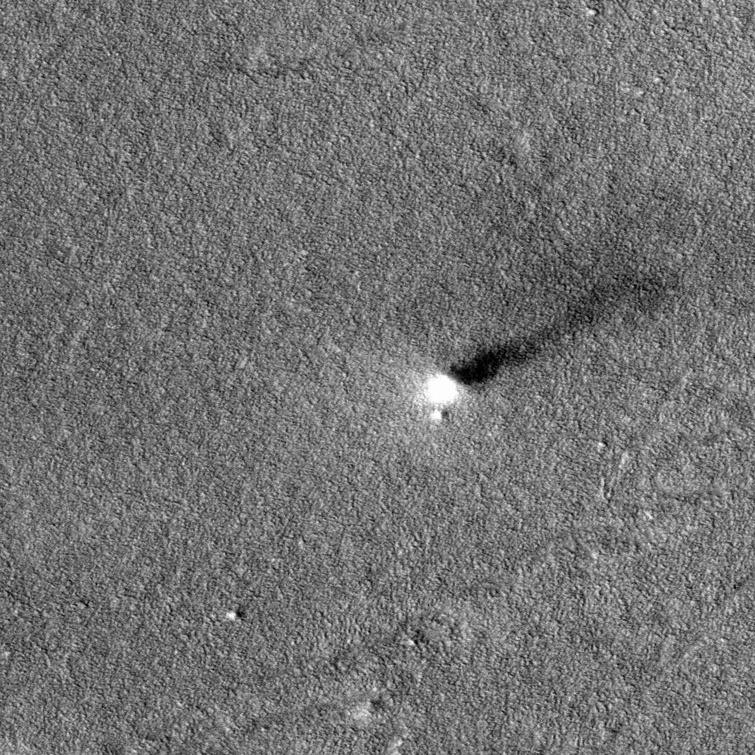dust_devil: (406, 276, 673, 426)
